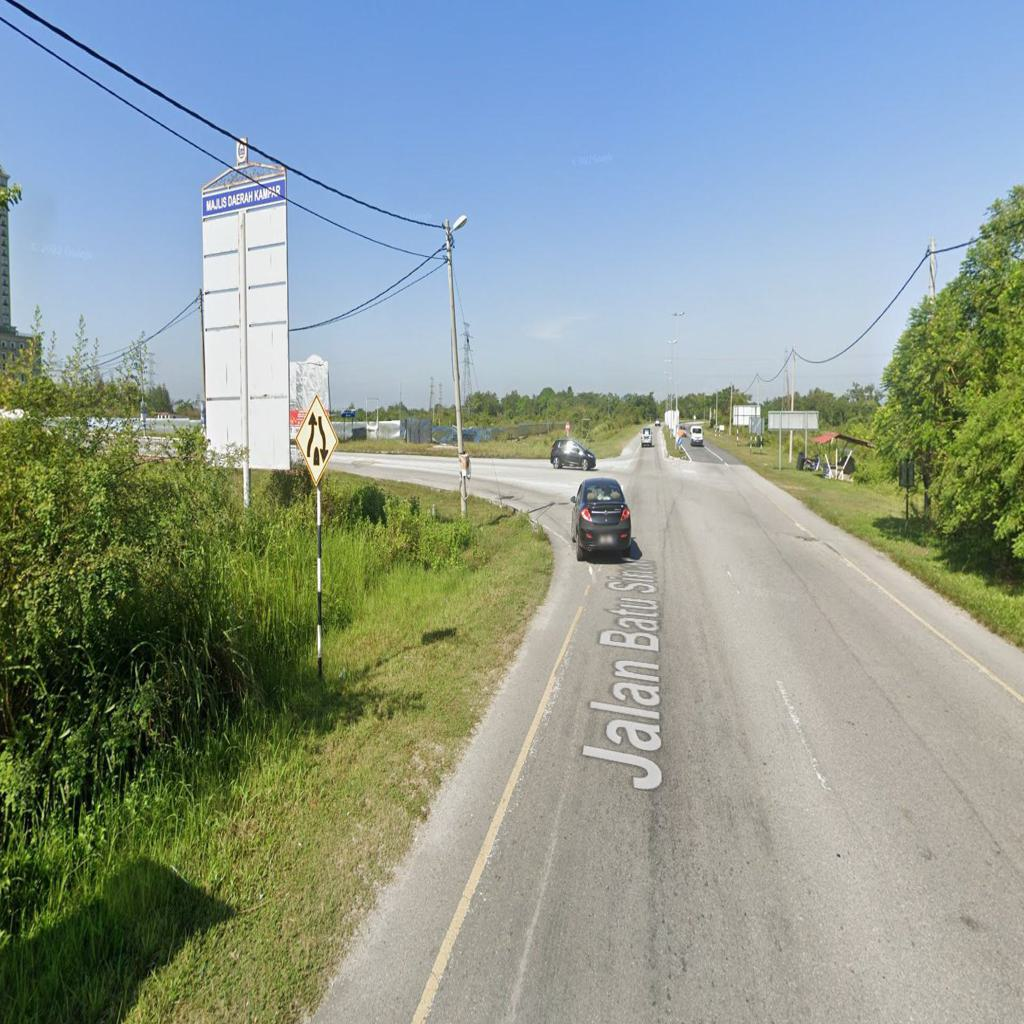Junction: (330, 415, 652, 587)
